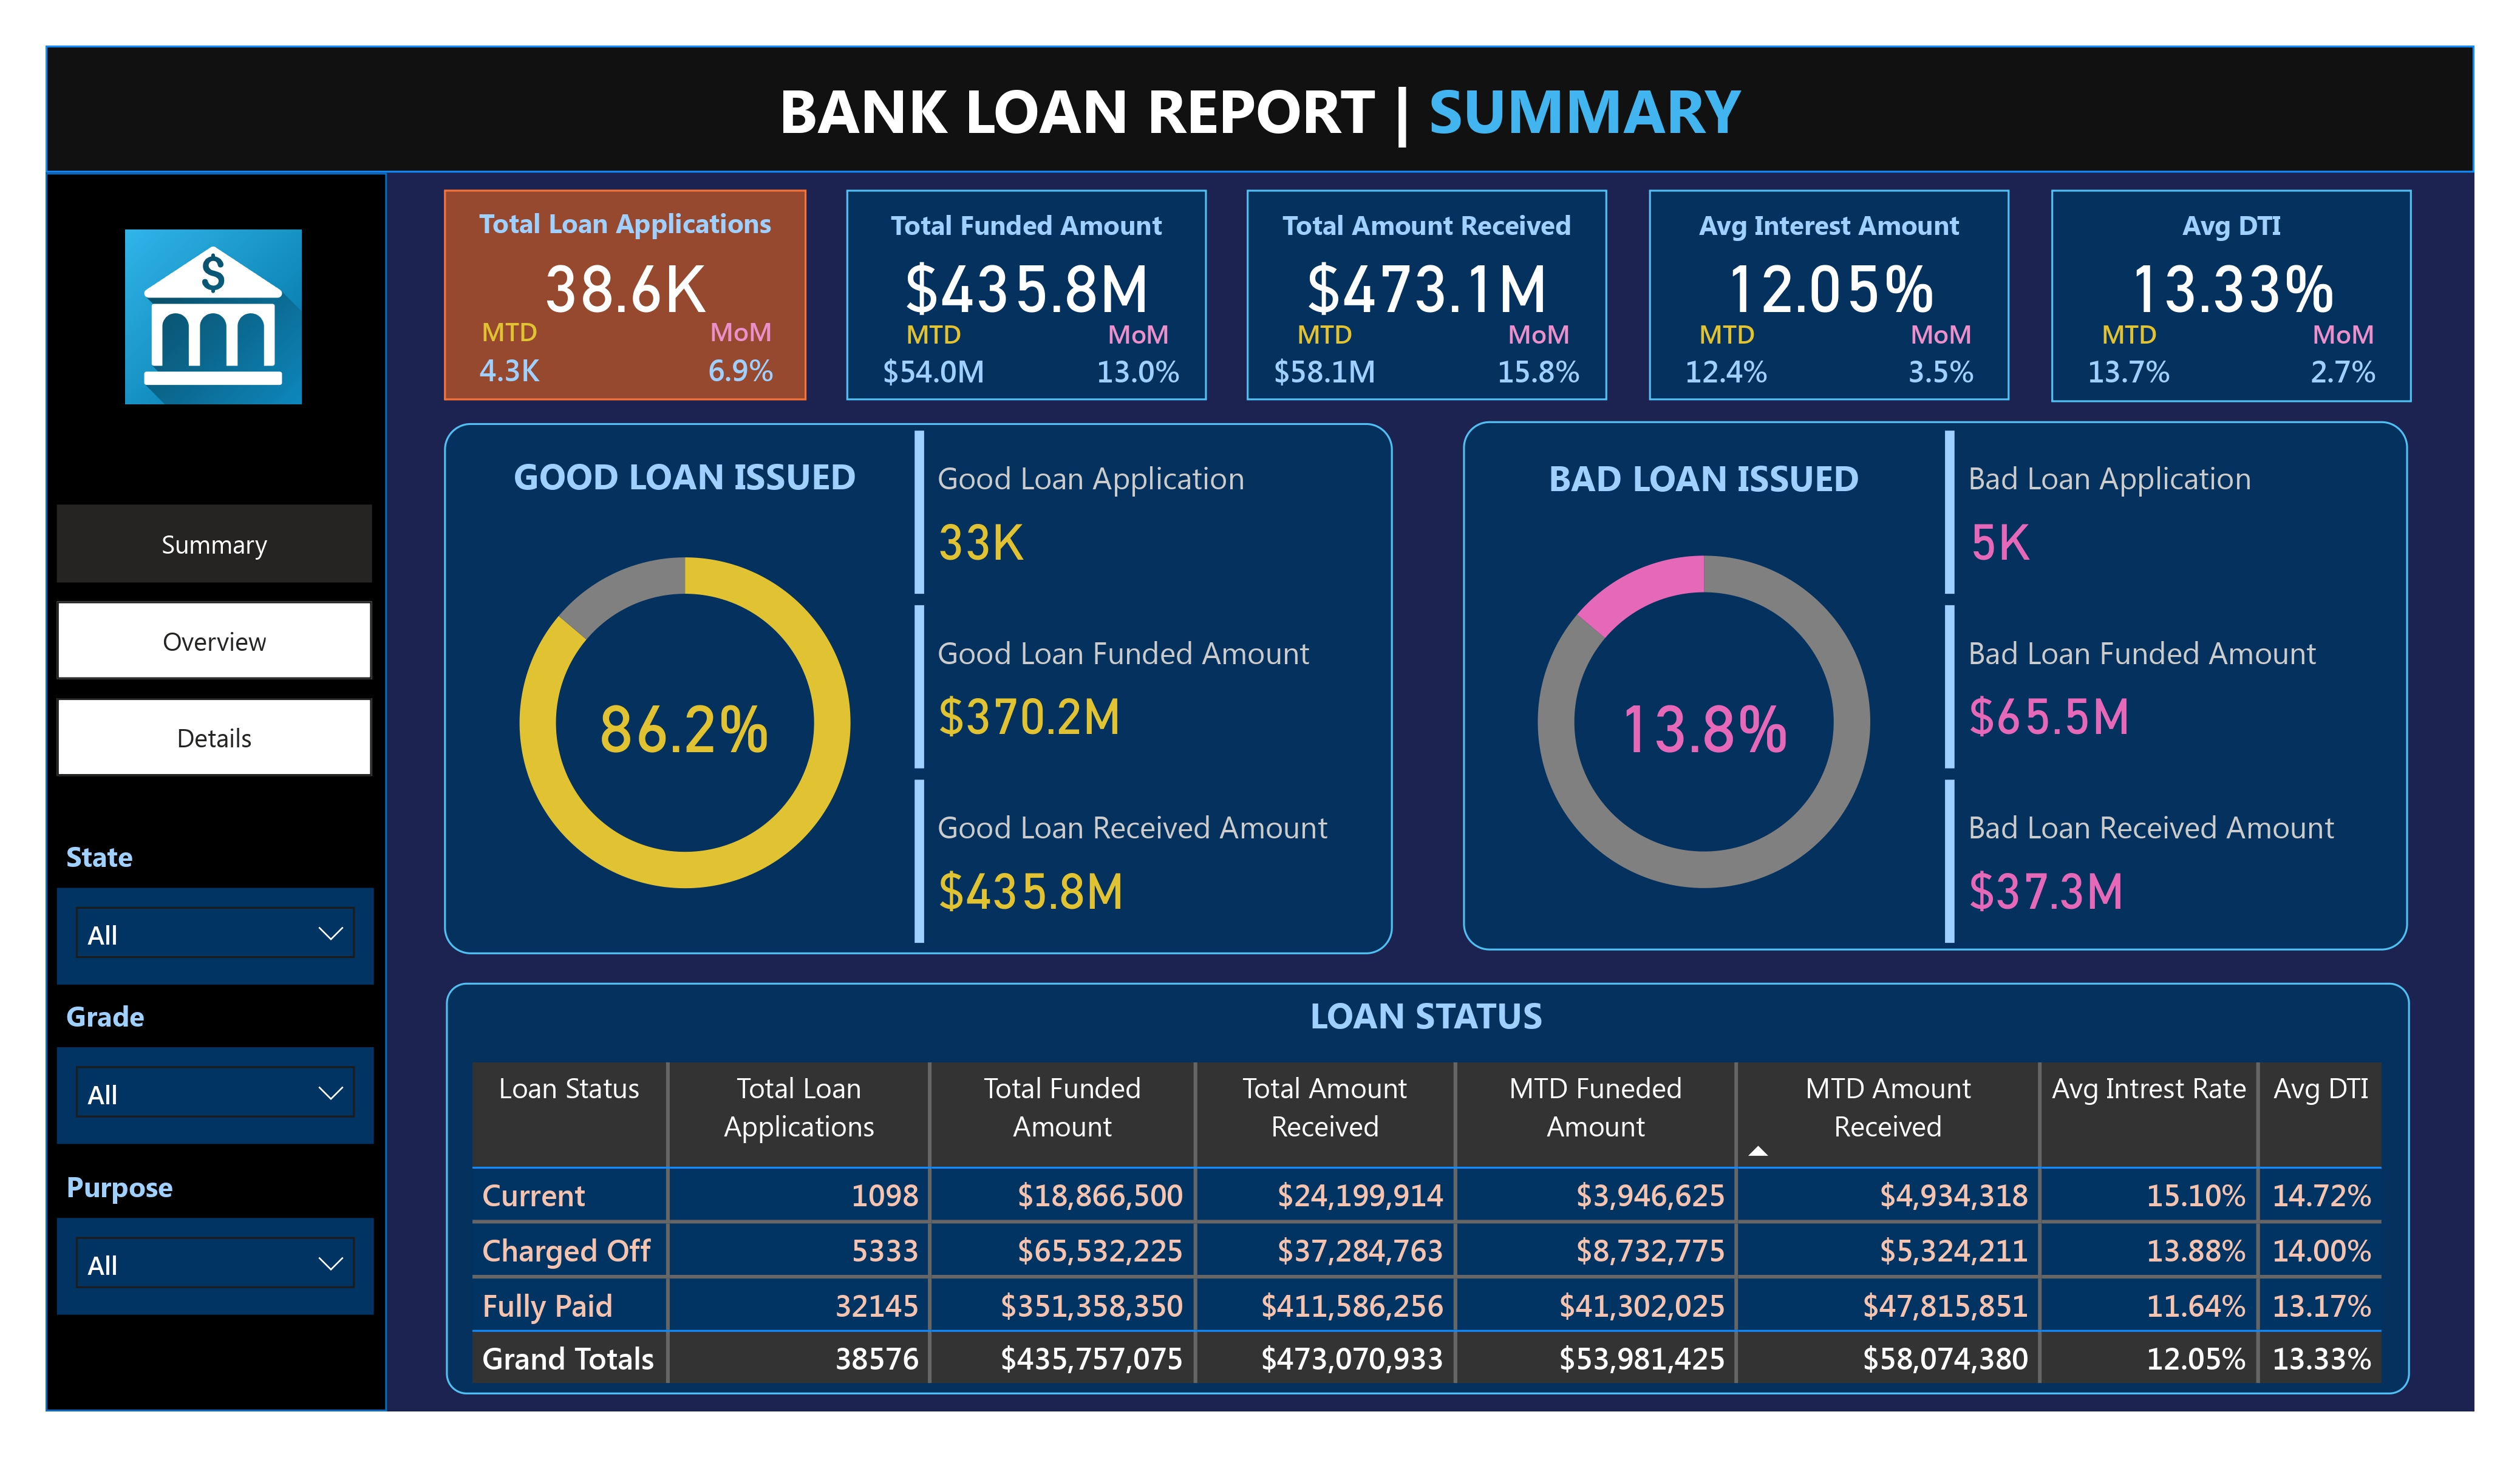

What the dashboard file says about the page in this screenshot:
{"tool":"powerbi","page":{"name":"Summary","canvas":[1280,720],"ordinal":0},"visuals":[{"type":"group","id":"g1","title":"Group 1","box":[0,0,1280,67.1],"z":0},{"type":"shape","box":[0,0,1280,67.1],"z":0,"group":"g1"},{"type":"shape","box":[210.1,199.4,500,280],"z":0,"group":"g8"},{"type":"slicer","fields":{"Values":["financial_loan.grade"]},"box":[6,528,167,51],"z":0,"group":"g20"},{"type":"slicer","fields":{"Values":["financial_loan.purpose"]},"box":[6,618,167,51],"z":0,"group":"g18"},{"type":"textbox","box":[314.3,5.7,651.4,55.7],"z":1000,"group":"g1"},{"type":"donutChart","fields":{"Y":["CountNonNull(financial_loan.Good Vs Bad Laon)"],"Category":["financial_loan.Good Vs Bad Laon"]},"box":[220.1,243.4,234,228],"z":1000,"group":"g8"},{"type":"shape","box":[211.5,493.8,1034.4,217.7],"z":1000},{"type":"textbox","box":[6,496,167,32],"z":1000,"group":"g20"},{"type":"textbox","box":[6,586,167,32],"z":1000,"group":"g18"},{"type":"shape","box":[0,67.1,180,652.9],"z":2000},{"type":"shape","box":[210.4,75.7,190.6,111.4],"z":2000,"group":"g13"},{"type":"shape","box":[421.7,76.2,190,111.4],"z":2000,"group":"g14"},{"type":"shape","box":[633.5,76.2,190,111.4],"z":2000,"group":"g15"},{"type":"shape","box":[845.2,76.2,190,111.4],"z":2000,"group":"g16"},{"type":"shape","box":[1057,76.2,190,111.5],"z":2000,"group":"g17"},{"type":"card","fields":{"Values":["financial_loan.Good Loan %"]},"box":[275.1,328.4,123,58],"z":2000,"group":"g8"},{"type":"group","id":"g2","title":"Group 2","box":[210.4,75.7,190.6,111.4],"z":3000},{"type":"card","fields":{"Values":["Count(financial_loan.id)"]},"box":[210.4,102.8,190.6,44.3],"z":3000,"group":"g13"},{"type":"textbox","box":[236.1,209.4,202,43],"z":3000,"group":"g8"},{"type":"textbox","box":[6,412,167,32],"z":3000,"group":"g21"},{"type":"textbox","box":[213.5,78.7,185.3,28.8],"z":4000,"group":"g13"},{"type":"card","fields":{"Values":["financial_loan.Total Funded Amount"]},"box":[421.7,103.3,190,44.3],"z":4000,"group":"g14"},{"type":"card","fields":{"Values":["financial_loan.Total Amount Received"]},"box":[633.5,103.3,190,44.3],"z":4000,"group":"g15"},{"type":"card","fields":{"Values":["financial_loan.Avg Intrest Rate"]},"box":[845.2,103.3,190,44.3],"z":4000,"group":"g16"},{"type":"card","fields":{"Values":["financial_loan.Avg Dti"]},"box":[1056.9,103.3,190,44.3],"z":4000,"group":"g17"},{"type":"cardVisual","fields":{"Data":["financial_loan.Good Loan Application","financial_loan.Good Loan Funded Amount","financial_loan.Good Loan Received Amount"]},"box":[453.1,198.4,245,280],"z":4000,"group":"g8"},{"type":"textbox","box":[626.7,493.3,201.7,43.3],"z":4000},{"type":"group","id":"g3","title":"Group 3","box":[421.7,76.2,190,111.4],"z":5000},{"type":"textbox","box":[430.2,80,173.1,30],"z":5000,"group":"g14"},{"type":"textbox","box":[642,80,173.1,30],"z":5000,"group":"g15"},{"type":"textbox","box":[853.7,80,173.1,30],"z":5000,"group":"g16"},{"type":"textbox","box":[1065.4,80,173.1,30],"z":5000,"group":"g17"},{"type":"card","title":"MTD","fields":{"Values":["financial_loan.MTD Loan Application"]},"box":[218.9,141.9,51.7,45.3],"z":5000,"group":"g13"},{"type":"group","id":"g4","title":"Group 3","box":[633.5,76.2,190,111.4],"z":6000},{"type":"card","title":"MoM","fields":{"Values":["financial_loan.MoM Loan Application"]},"box":[341,141.9,51.4,45.3],"z":6000,"group":"g13"},{"type":"card","title":"MTD","fields":{"Values":["financial_loan.MTD Funeded Amount"]},"box":[430.4,143,74.6,44.6],"z":6000,"group":"g14"},{"type":"card","title":"MTD","fields":{"Values":["financial_loan.MTD Amount Received"]},"box":[641.8,143,66.2,44.6],"z":6000,"group":"g15"},{"type":"card","title":"MTD","fields":{"Values":["financial_loan.MTD Avg Int Rate"]},"box":[853.5,143,66.2,44.6],"z":6000,"group":"g16"},{"type":"card","title":"MTD","fields":{"Values":["financial_loan.MTD Avg DTI Rate"]},"box":[1065.2,143,66.2,44.6],"z":6000,"group":"g17"},{"type":"group","id":"g5","title":"Group 3","box":[845.2,76.2,190,111.4],"z":7000},{"type":"card","title":"MoM","fields":{"Values":["financial_loan.MoM Funded Amount"]},"box":[548.1,143,55.4,44.6],"z":7000,"group":"g14"},{"type":"card","title":"MoM","fields":{"Values":["financial_loan.MoM Amount Received"]},"box":[759.9,143,55.4,44.6],"z":7000,"group":"g15"},{"type":"card","title":"MoM","fields":{"Values":["financial_loan.MoM Avg Int Rate"]},"box":[971.6,143,55.4,44.6],"z":7000,"group":"g16"},{"type":"card","title":"MoM","fields":{"Values":["financial_loan.MoM Avg Dti Rate"]},"box":[1183.3,143,55.4,44.6],"z":7000,"group":"g17"},{"type":"shape","box":[747.1,198.4,498,279],"z":7000,"group":"g19"},{"type":"group","id":"g6","title":"Group 3","box":[1056.9,76.2,190.1,111.5],"z":8000},{"type":"donutChart","fields":{"Y":["CountNonNull(financial_loan.Good Vs Bad Laon)"],"Category":["financial_loan.Good Vs Bad Laon"]},"box":[757.2,242,234.1,229.5],"z":8000,"group":"g19"},{"type":"group","id":"g7","title":"Group 12","box":[210.1,198.4,1035,281.1],"z":9000},{"type":"textbox","box":[773.1,210.2,202.3,43.2],"z":9000,"group":"g19"},{"type":"slicer","fields":{"Values":["financial_loan.address_state"]},"box":[6,444,167,51],"z":9001,"group":"g21"},{"type":"group","id":"g8","title":"Group 10","box":[210.1,198.4,500,281],"z":10000,"group":"g7"},{"type":"tableEx","fields":{"Values":["financial_loan.loan_status","financial_loan.Total Loan Application","financial_loan.Total Funded Amount","financial_loan.Total Amount Received","financial_loan.MTD Funeded Amount","financial_loan.MTD Amount Received","financial_loan.Avg Intrest Rate","financial_loan.Avg Dti"]},"box":[218.8,531.2,1018.8,180.2],"z":10000},{"type":"group","id":"g9","title":"Group 4","box":[421.7,76.2,190,111.4],"z":10002,"group":"g3"},{"type":"group","id":"g10","title":"Group 4","box":[633.5,76.2,190,111.4],"z":10002,"group":"g4"},{"type":"group","id":"g11","title":"Group 4","box":[845.2,76.2,190,111.4],"z":10002,"group":"g5"},{"type":"group","id":"g12","title":"Group 4","box":[1056.9,76.2,190.1,111.5],"z":10002,"group":"g6"},{"type":"group","id":"g13","title":"Group 9","box":[210.4,75.7,190.6,111.4],"z":10006,"group":"g2"},{"type":"group","id":"g14","title":"Group 8","box":[421.7,76.2,190,111.4],"z":10006,"group":"g9"},{"type":"group","id":"g15","title":"Group 7","box":[633.5,76.2,190,111.4],"z":10006,"group":"g10"},{"type":"group","id":"g16","title":"Group 6","box":[845.2,76.2,190,111.4],"z":10006,"group":"g11"},{"type":"group","id":"g17","title":"Group 5","box":[1056.9,76.2,190.1,111.5],"z":10006,"group":"g12"},{"type":"card","fields":{"Values":["financial_loan.Bad Loan %"]},"box":[812.1,328.1,123.4,58.8],"z":10500,"group":"g19"},{"type":"cardVisual","fields":{"Data":["financial_loan.Bad Loan Application","financial_loan.Bad Loan Funded Amount","financial_loan.Bad Loan Received Amount"]},"box":[995.8,198.8,245.4,280.7],"z":11000,"group":"g19"},{"type":"group","id":"g18","title":"Group 13","box":[6,586,168,82],"z":11000},{"type":"group","id":"g19","title":"Group 11","box":[747.1,198.4,498,281.1],"z":11001,"group":"g7"},{"type":"group","id":"g20","title":"Group 14","box":[6,496,168,84],"z":12000},{"type":"group","id":"g21","title":"Group 15","box":[6,412,168,82],"z":13000},{"type":"image","box":[19,91.7,139.3,102.4],"z":13001},{"type":"pageNavigator","box":[6,241.7,166.7,145.2],"z":13002}]}

Visuals, with their boxes on the page's 1280x720 design canvas (x1, y1, x2, y2). These are canvas units, not pixel positions in the 2520x1457 screenshot, which may show the page scaled, cropped or inside an application window:
"Group 1" group: <bbox>0, 0, 1280, 67</bbox>
shape: <bbox>0, 0, 1280, 67</bbox>
shape: <bbox>210, 199, 710, 479</bbox>
slicer - financial_loan.grade: <bbox>6, 528, 173, 579</bbox>
slicer - financial_loan.purpose: <bbox>6, 618, 173, 669</bbox>
textbox: <bbox>314, 6, 966, 61</bbox>
donutChart - CountNonNull(financial_loan.Good Vs Bad Laon) x financial_loan.Good Vs Bad Laon: <bbox>220, 243, 454, 471</bbox>
shape: <bbox>212, 494, 1246, 712</bbox>
textbox: <bbox>6, 496, 173, 528</bbox>
textbox: <bbox>6, 586, 173, 618</bbox>
shape: <bbox>0, 67, 180, 720</bbox>
shape: <bbox>210, 76, 401, 187</bbox>
shape: <bbox>422, 76, 612, 188</bbox>
shape: <bbox>634, 76, 824, 188</bbox>
shape: <bbox>845, 76, 1035, 188</bbox>
shape: <bbox>1057, 76, 1247, 188</bbox>
card - financial_loan.Good Loan %: <bbox>275, 328, 398, 386</bbox>
"Group 2" group: <bbox>210, 76, 401, 187</bbox>
card - Count(financial_loan.id): <bbox>210, 103, 401, 147</bbox>
textbox: <bbox>236, 209, 438, 252</bbox>
textbox: <bbox>6, 412, 173, 444</bbox>
textbox: <bbox>214, 79, 399, 108</bbox>
card - financial_loan.Total Funded Amount: <bbox>422, 103, 612, 148</bbox>
card - financial_loan.Total Amount Received: <bbox>634, 103, 824, 148</bbox>
card - financial_loan.Avg Intrest Rate: <bbox>845, 103, 1035, 148</bbox>
card - financial_loan.Avg Dti: <bbox>1057, 103, 1247, 148</bbox>
cardVisual - financial_loan.Good Loan Application x financial_loan.Good Loan Funded Amount: <bbox>453, 198, 698, 478</bbox>
textbox: <bbox>627, 493, 828, 537</bbox>
"Group 3" group: <bbox>422, 76, 612, 188</bbox>
textbox: <bbox>430, 80, 603, 110</bbox>
textbox: <bbox>642, 80, 815, 110</bbox>
textbox: <bbox>854, 80, 1027, 110</bbox>
textbox: <bbox>1065, 80, 1238, 110</bbox>
"MTD" card: <bbox>219, 142, 271, 187</bbox>
"Group 3" group: <bbox>634, 76, 824, 188</bbox>
"MoM" card: <bbox>341, 142, 392, 187</bbox>
"MTD" card: <bbox>430, 143, 505, 188</bbox>
"MTD" card: <bbox>642, 143, 708, 188</bbox>
"MTD" card: <bbox>854, 143, 920, 188</bbox>
"MTD" card: <bbox>1065, 143, 1131, 188</bbox>
"Group 3" group: <bbox>845, 76, 1035, 188</bbox>
"MoM" card: <bbox>548, 143, 604, 188</bbox>
"MoM" card: <bbox>760, 143, 815, 188</bbox>
"MoM" card: <bbox>972, 143, 1027, 188</bbox>
"MoM" card: <bbox>1183, 143, 1239, 188</bbox>
shape: <bbox>747, 198, 1245, 477</bbox>
"Group 3" group: <bbox>1057, 76, 1247, 188</bbox>
donutChart - CountNonNull(financial_loan.Good Vs Bad Laon) x financial_loan.Good Vs Bad Laon: <bbox>757, 242, 991, 472</bbox>
"Group 12" group: <bbox>210, 198, 1245, 480</bbox>
textbox: <bbox>773, 210, 975, 253</bbox>
slicer - financial_loan.address_state: <bbox>6, 444, 173, 495</bbox>
"Group 10" group: <bbox>210, 198, 710, 479</bbox>
tableEx - financial_loan.loan_status x financial_loan.Total Loan Application: <bbox>219, 531, 1238, 711</bbox>
"Group 4" group: <bbox>422, 76, 612, 188</bbox>
"Group 4" group: <bbox>634, 76, 824, 188</bbox>
"Group 4" group: <bbox>845, 76, 1035, 188</bbox>
"Group 4" group: <bbox>1057, 76, 1247, 188</bbox>
"Group 9" group: <bbox>210, 76, 401, 187</bbox>
"Group 8" group: <bbox>422, 76, 612, 188</bbox>
"Group 7" group: <bbox>634, 76, 824, 188</bbox>
"Group 6" group: <bbox>845, 76, 1035, 188</bbox>
"Group 5" group: <bbox>1057, 76, 1247, 188</bbox>
card - financial_loan.Bad Loan %: <bbox>812, 328, 936, 387</bbox>
cardVisual - financial_loan.Bad Loan Application x financial_loan.Bad Loan Funded Amount: <bbox>996, 199, 1241, 480</bbox>
"Group 13" group: <bbox>6, 586, 174, 668</bbox>
"Group 11" group: <bbox>747, 198, 1245, 480</bbox>
"Group 14" group: <bbox>6, 496, 174, 580</bbox>
"Group 15" group: <bbox>6, 412, 174, 494</bbox>
image: <bbox>19, 92, 158, 194</bbox>
pageNavigator: <bbox>6, 242, 173, 387</bbox>
